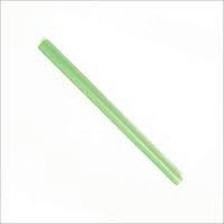drinking_straw: (32, 34, 194, 191)
